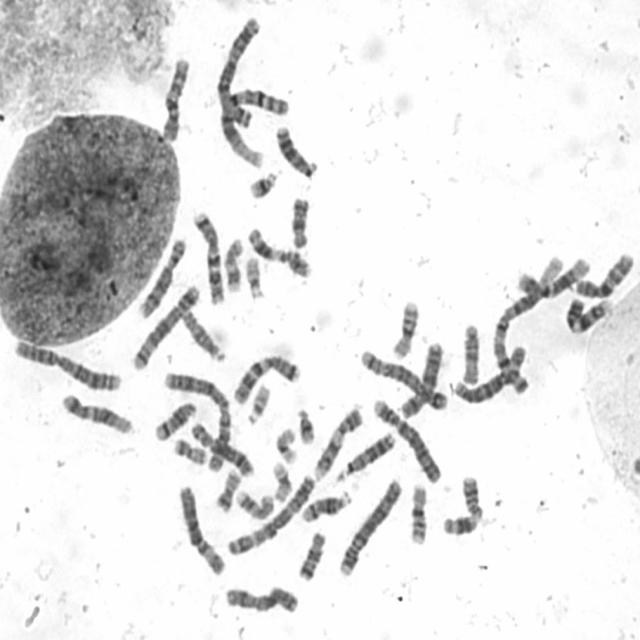A1: (487, 249, 566, 396), (215, 80, 292, 168)
A2: (160, 366, 234, 474), (8, 334, 124, 393)
A3: (222, 468, 318, 557), (212, 10, 262, 131)
B4: (334, 473, 404, 579), (368, 392, 443, 485)
B5: (128, 278, 202, 372), (356, 343, 449, 411)
C10: (568, 246, 636, 301), (156, 51, 192, 143)
C11: (242, 222, 314, 279), (438, 470, 484, 538)
C12: (512, 250, 592, 300), (57, 386, 135, 436)
C6: (449, 340, 530, 406), (174, 479, 228, 577)
C7: (228, 348, 302, 407), (188, 205, 226, 306)
C8: (134, 232, 188, 320), (186, 416, 255, 478)
C9: (308, 401, 366, 481), (561, 290, 614, 336)
D13: (332, 426, 396, 482), (271, 119, 320, 180)
D14: (150, 396, 199, 442), (298, 486, 353, 524)
D15: (176, 304, 227, 364), (457, 318, 482, 387)
E16: (387, 294, 421, 360), (405, 478, 429, 546)
E17: (231, 485, 276, 521), (220, 232, 245, 294)
E18: (294, 526, 327, 583), (286, 190, 312, 251)
F19: (267, 455, 294, 505), (271, 422, 299, 465)
F20: (211, 462, 242, 512), (168, 432, 208, 467)
G21: (244, 166, 279, 200), (293, 403, 317, 446)
G22: (242, 378, 272, 426), (241, 250, 266, 300)
X: (394, 336, 445, 420), (221, 580, 300, 615)
